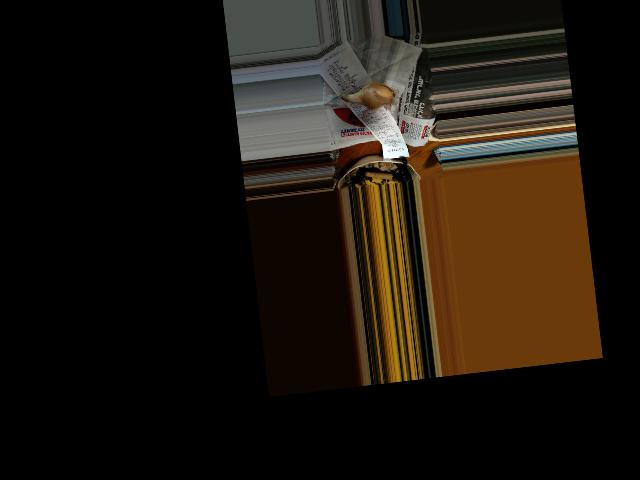onion: (351, 82, 399, 111)
